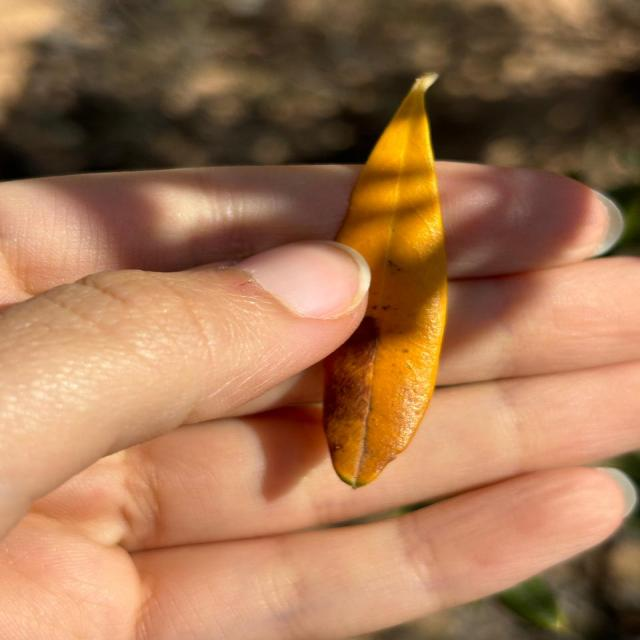Peacock Eye: (323, 74, 447, 488)
